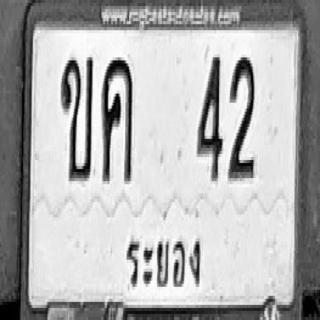A02: (60, 54, 93, 181)
A04: (102, 57, 133, 181)
N02: (228, 56, 255, 180)
N04: (197, 54, 222, 181)
P53: (122, 225, 207, 296)
